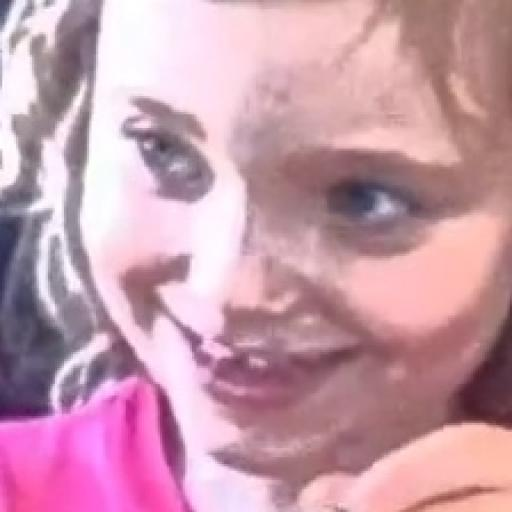Autism: (60, 2, 512, 470)
